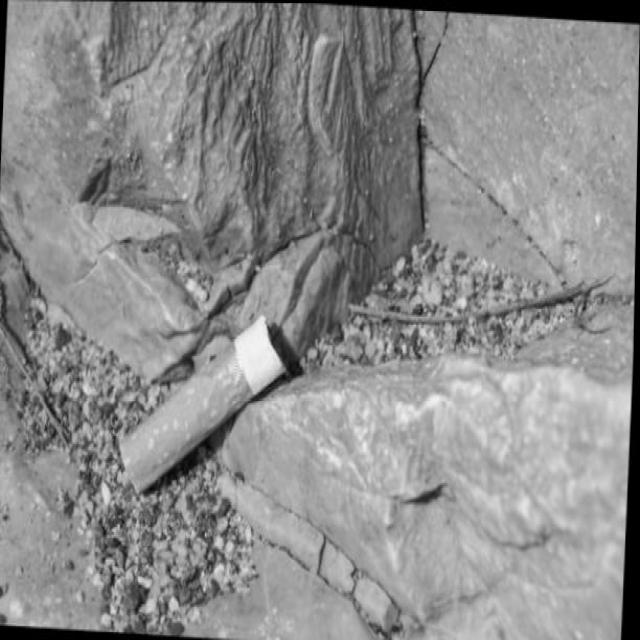cigarette: (114, 304, 292, 507)
